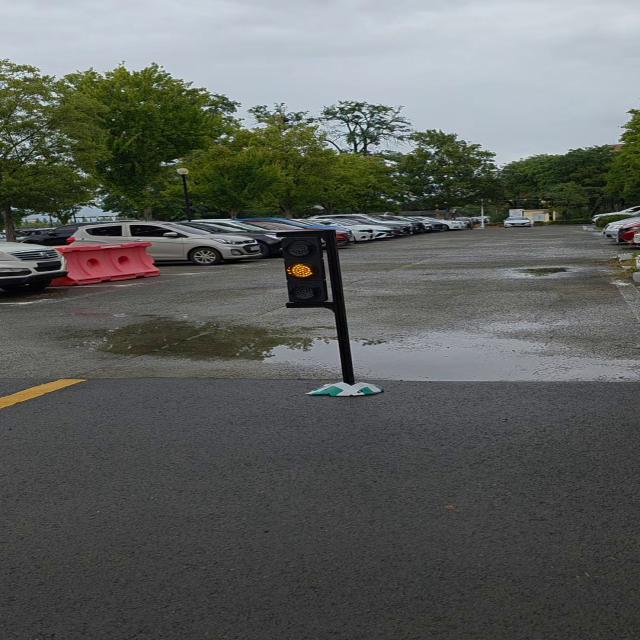yellow: (277, 234, 339, 307)
